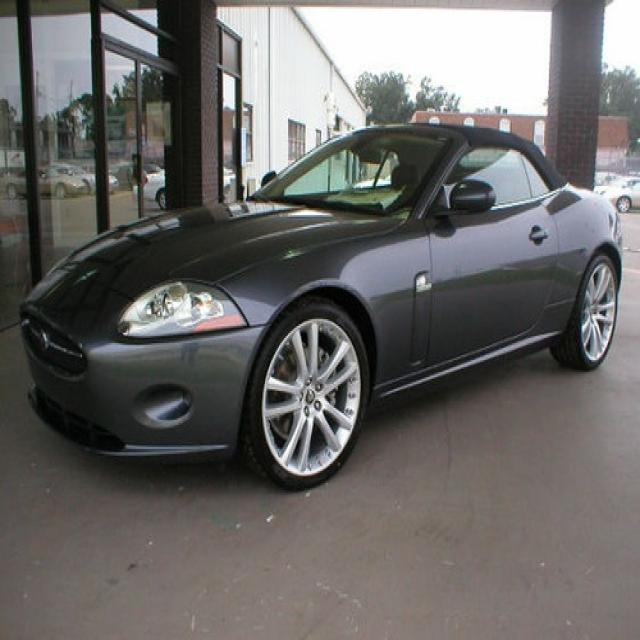car: (19, 118, 625, 490), (4, 164, 86, 201), (54, 162, 122, 195), (129, 160, 168, 210), (603, 176, 639, 212)
